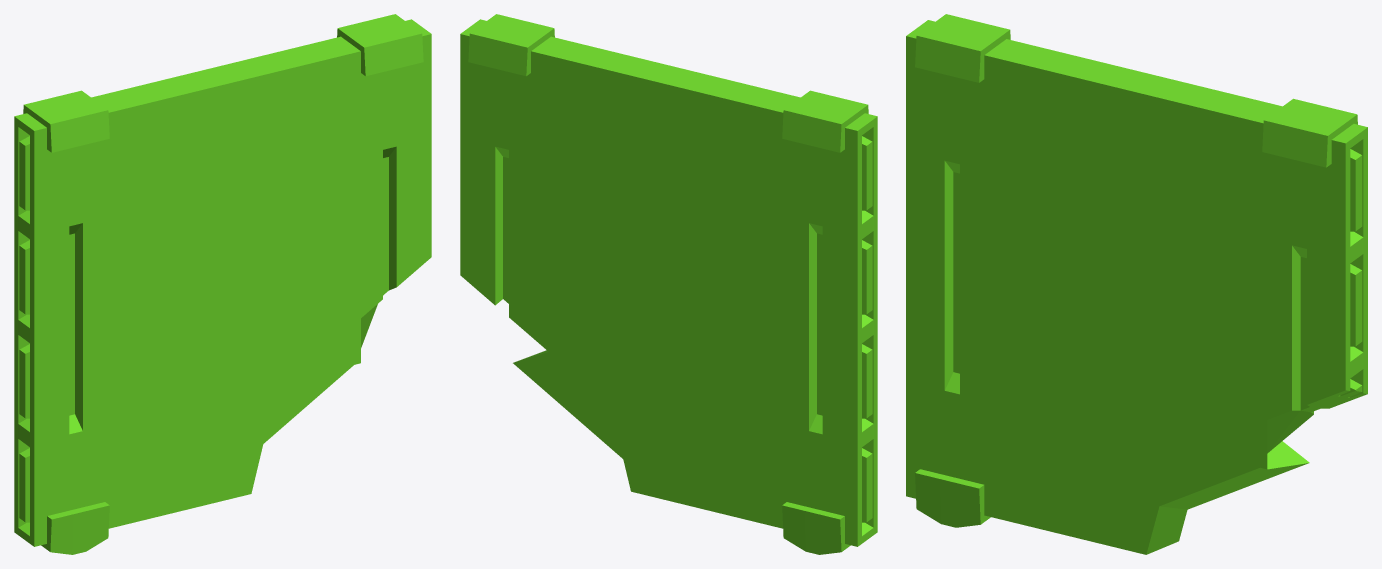
File: Wall_Panel_2.fbx
3 renders of one model, left to right at view 1: azimuth 30°, elevation 25°; view 2: azimuth 150°, elevation 25°; view 3: azimuth 330°, elevation 25°, orthographic. The views are drawn at different scales.
Parts seen in each view (by area): view 1: Wall_Panel_2; view 2: Wall_Panel_2; view 3: Wall_Panel_2.
Part boxes in pixels (x1,y1,x2,y2): Wall_Panel_2: (14,14,431,554); Wall_Panel_2: (460,14,877,554); Wall_Panel_2: (906,14,1367,554).
Bounding box in the file's own units: 387 × 402 × 49.2.
